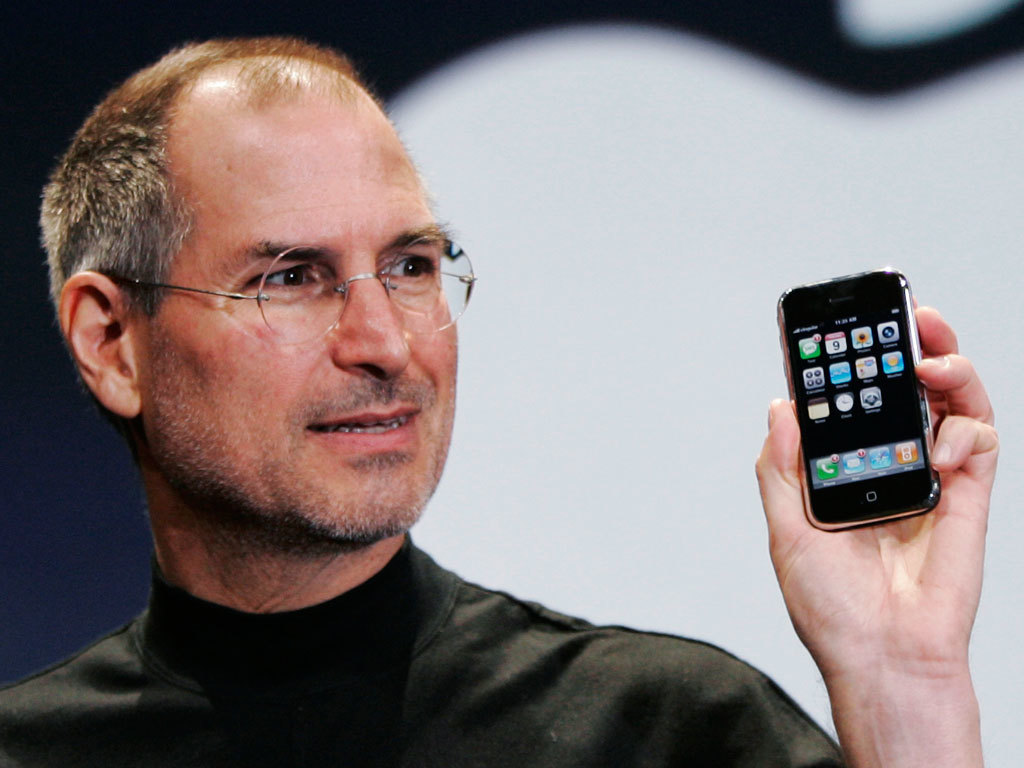Mobile-phone: (773, 266, 945, 528)
